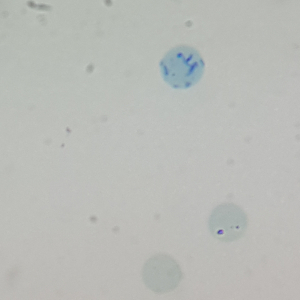aggregate reticulocyte: (158, 44, 206, 91)
erythrocyte: (139, 253, 184, 295), (207, 202, 248, 243)
